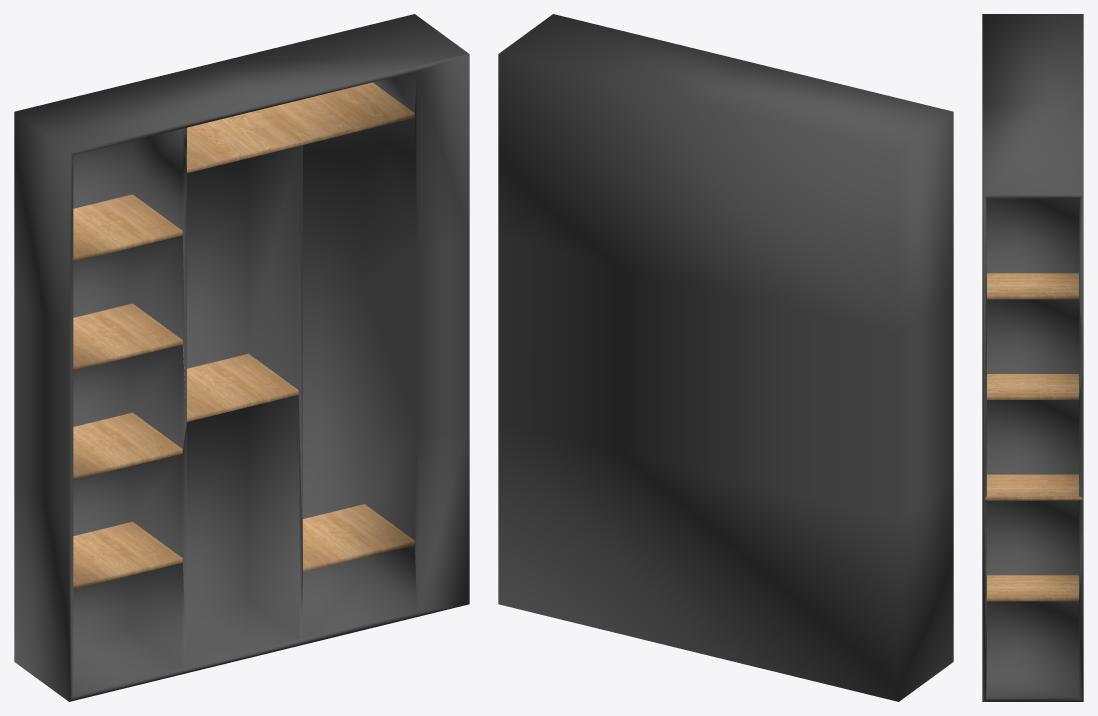
File: kast_zij.gltf
3 views of the same model, side by side, from view 1: azimuth 30°, elevation 25°; view 2: azimuth 150°, elevation 25°; view 3: azimuth 270°, elevation 25° (orthographic). The views are drawn at different scales.
Visible parts, largest first — view 1: kast_zij; view 2: kast_zij; view 3: kast_zij.
Part boxes in pixels (x1,y1,x2,y2): kast_zij: (14,14,469,701); kast_zij: (498,14,953,701); kast_zij: (982,14,1083,701).
Bounding box in the file's own units: 1685 × 2211 × 400.
Materials: 2 (1 with a texture image).
